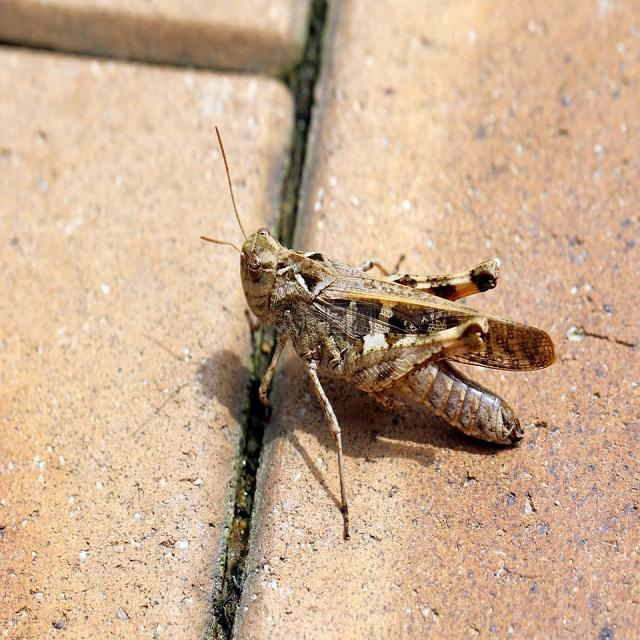ZhaMeng: (191, 185, 574, 468)
